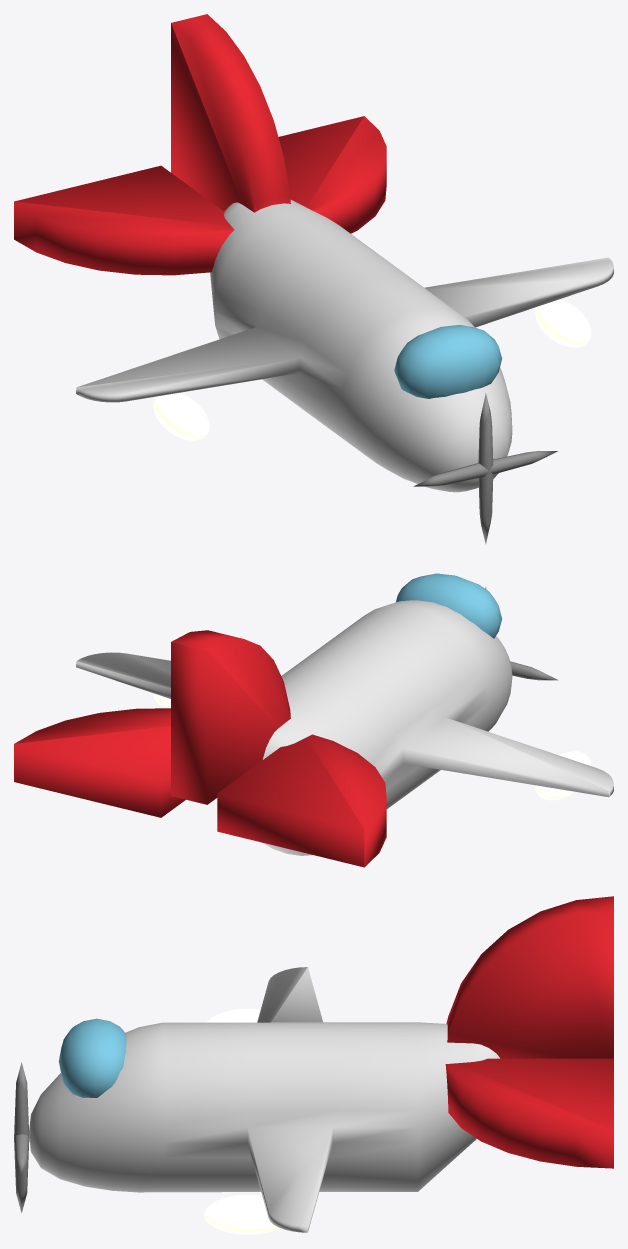
The model's file is avion.fbx.
3 renders of one model, top to bottom at view 1: azimuth 30°, elevation 25°; view 2: azimuth 150°, elevation 25°; view 3: azimuth 270°, elevation 25°, orthographic.
Parts seen in each view (by area): view 1: Cube.002, Sphere.001, Cube.001; view 2: Cube.002, Sphere.001, Cube.001; view 3: Cube.002, Sphere.001, Cube.001.
Part boxes in pixels (x1,y1,x2,y2): Cube.002: (14, 14, 613, 492); Sphere.001: (153, 299, 591, 440); Cube.001: (413, 393, 557, 544); Cube.002: (14, 573, 613, 867); Sphere.001: (153, 693, 591, 800); Cube.001: (485, 586, 558, 680); Cube.002: (29, 896, 613, 1232); Sphere.001: (204, 1008, 280, 1234); Cube.001: (14, 1062, 29, 1213).
Bounding box in the file's own units: 0.7243 × 0.4015 × 0.7069.
